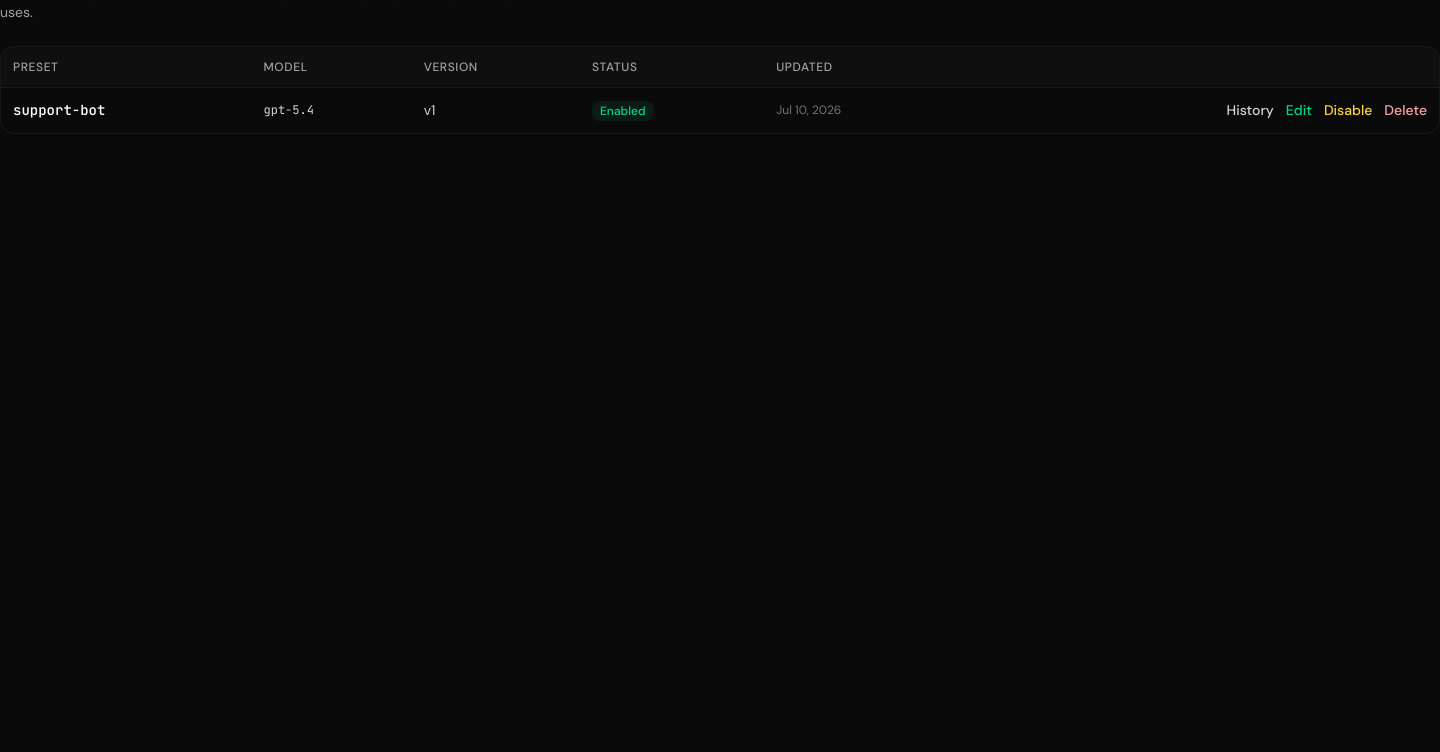
it: PresetsManager › publishes an edit as a new version with the complete PUT body
Expected: the text "support-bot" is shown, 1,87 -> 252,132
Click the button with aria-label "Edit support-bot": (1299, 110) 1286,100 -> 1312,120
(page scrolled)
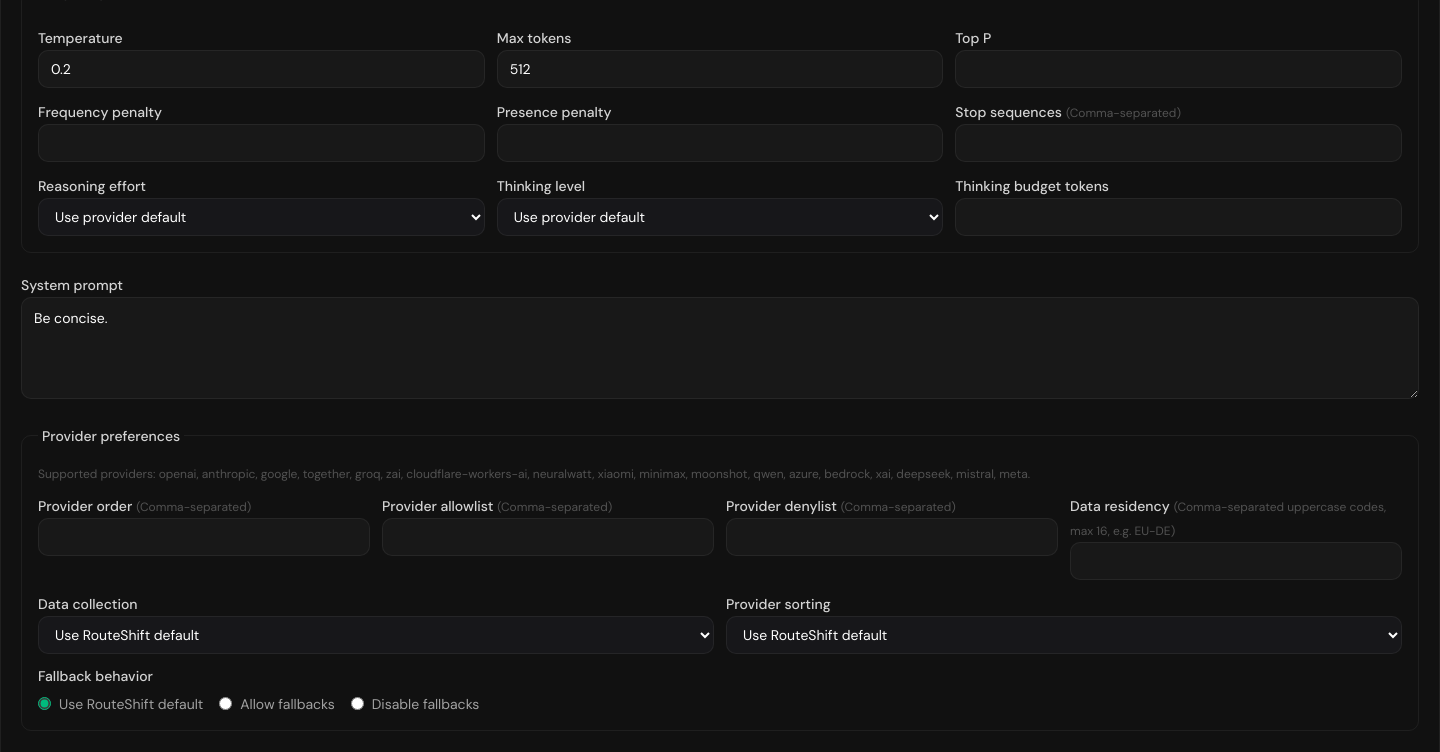
Replace the text in the text box labelled "System prompt" with "Be very concise.": (720, 348) 21,296 -> 1419,398
(page scrolled)
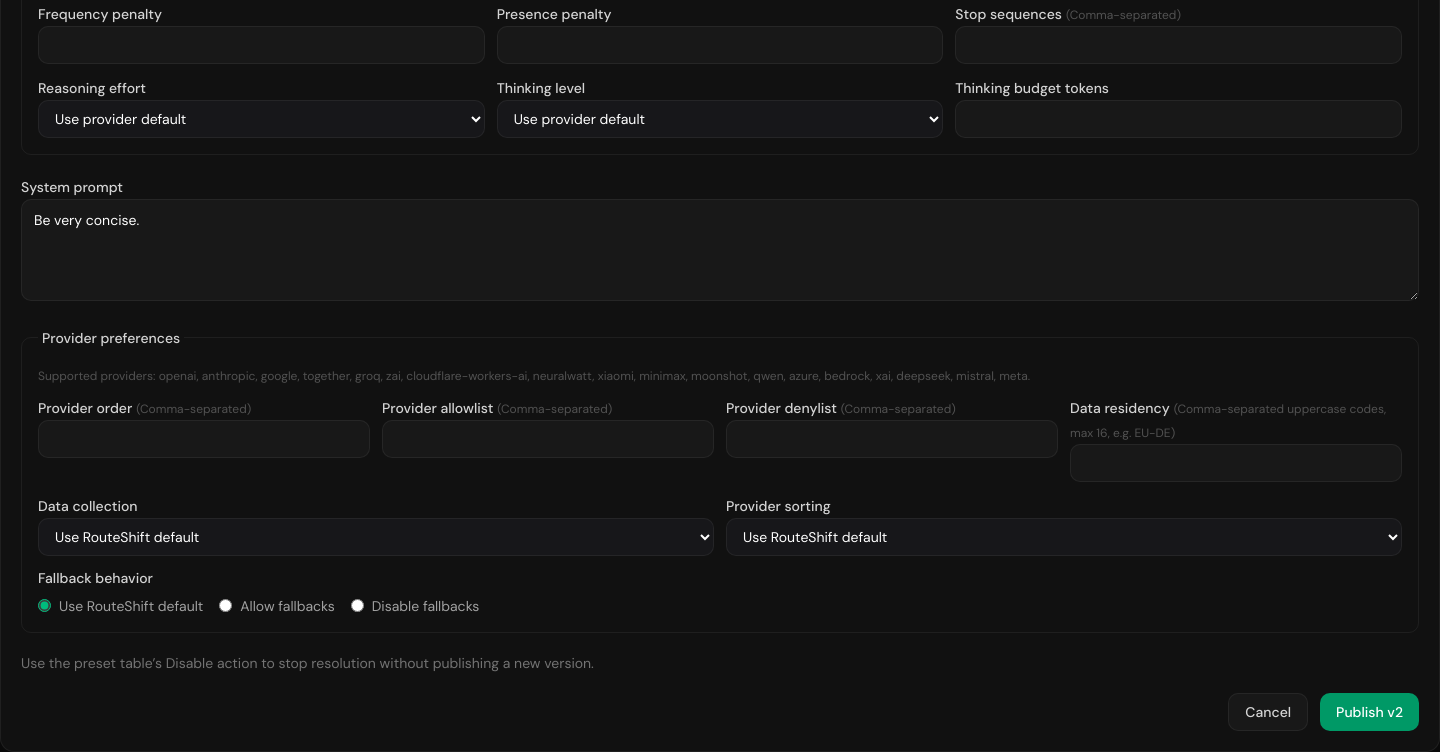
Click the button "Publish v2": (1370, 712) 1320,692 -> 1419,730
(page scrolled)
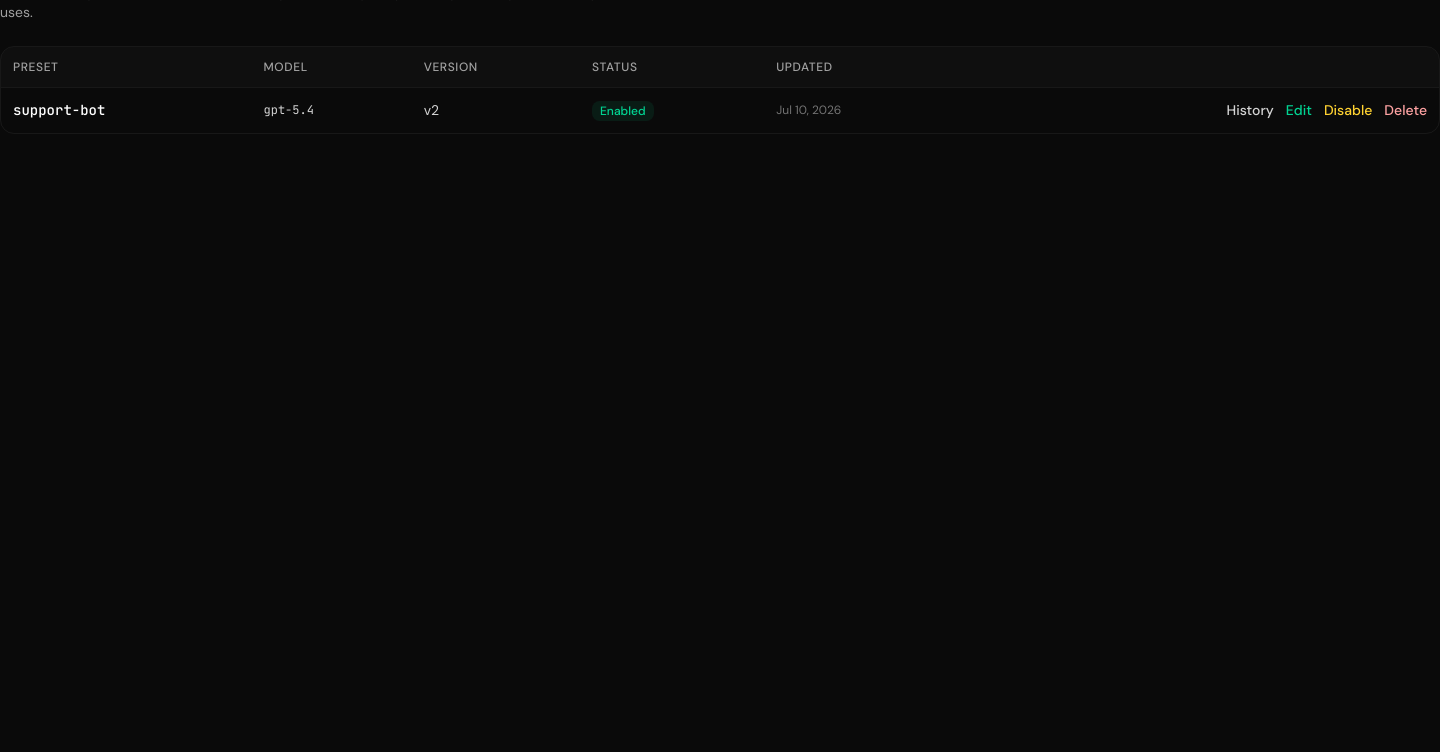
Result: the text "v2" is shown at 424,101 -> 439,119
